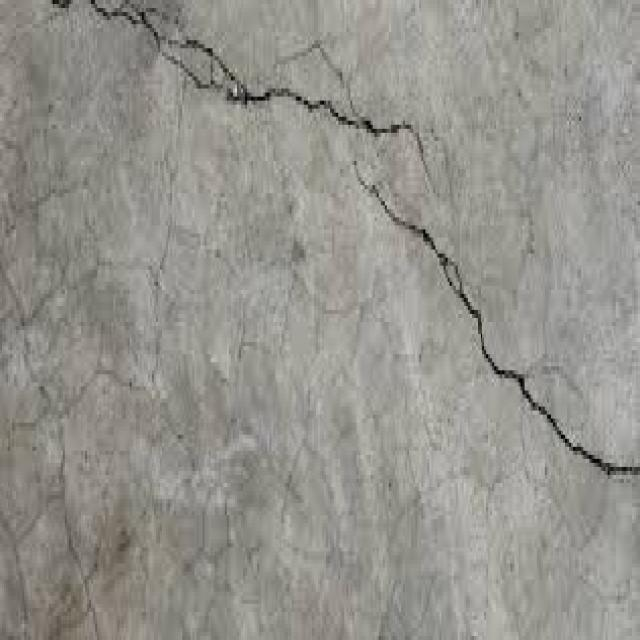crack: (368, 186, 639, 475), (180, 41, 424, 154)
